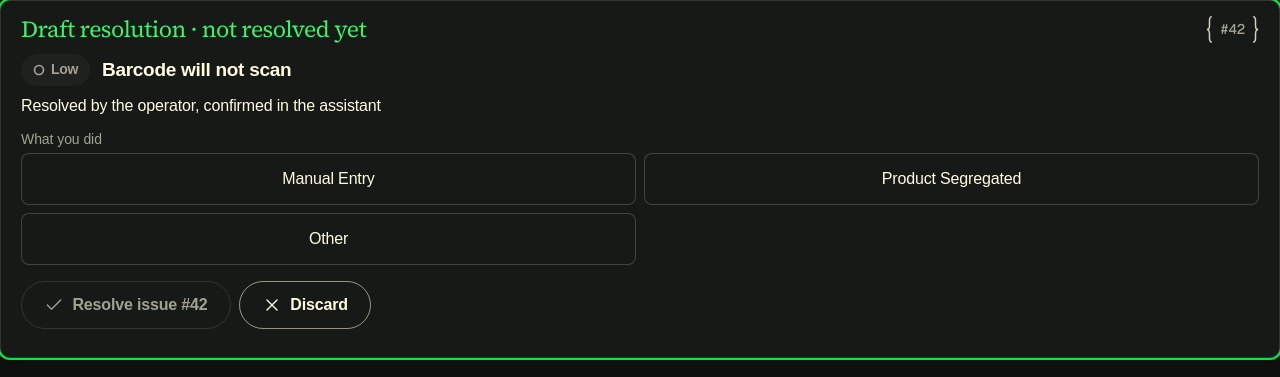
Self-resolve draft › offers the taxonomy resolutions and waits for the worker to pick one
The width and height of the screenshot is (1280, 377).
expect the heading "Draft resolution · not resolved yet" is shown: met, box x1=21 y1=17 x2=366 y2=42
expect the button "Resolve issue #42" is disabled: met, box x1=21 y1=281 x2=231 y2=329
Click the button "Manual Entry".
click(328, 179)  # box x1=21 y1=153 x2=636 y2=205
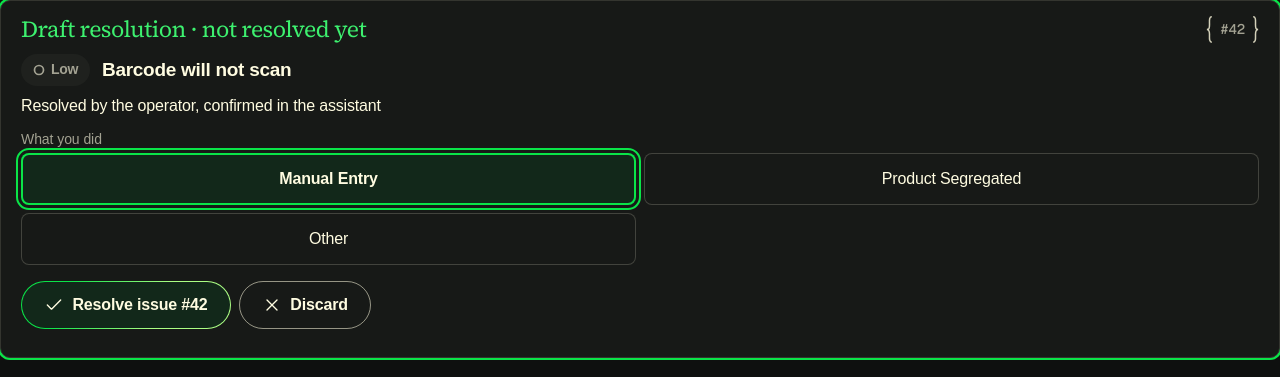
expect the button "Resolve issue #42" is enabled: met, box x1=21 y1=281 x2=231 y2=329
